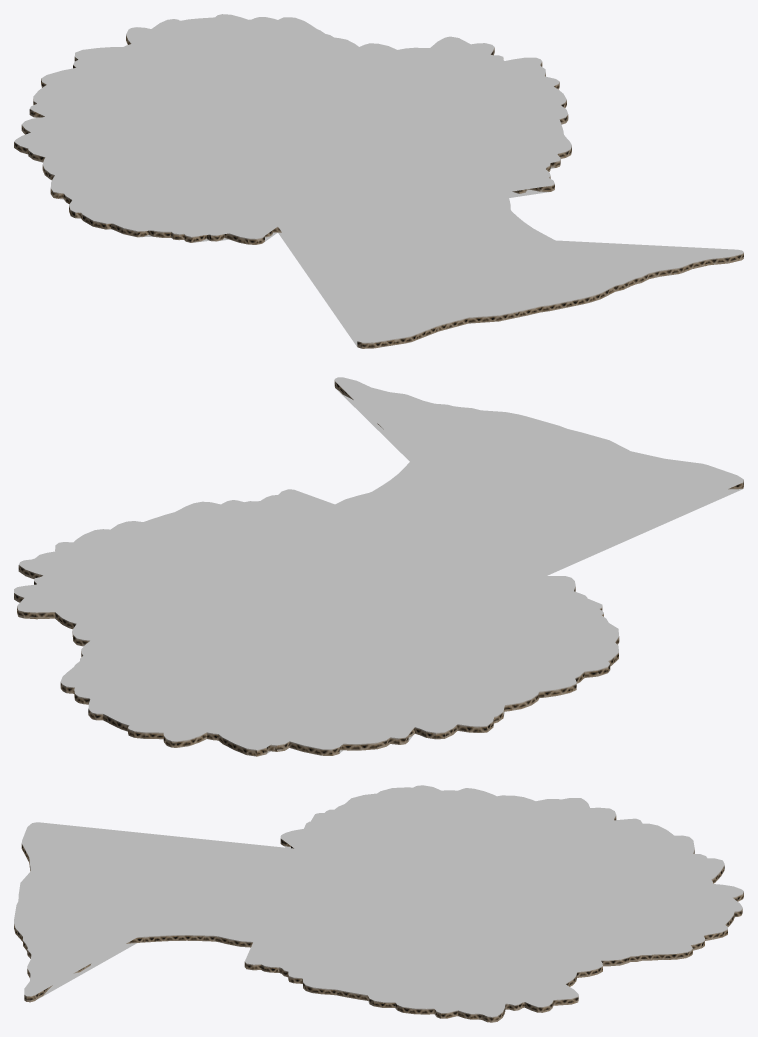
The model's file is tree_sprite.fbx.
The picture shows the model from 3 angles, top to bottom: view 1: azimuth 30°, elevation 25°; view 2: azimuth 150°, elevation 25°; view 3: azimuth 270°, elevation 25°; orthographic projection. The views are drawn at different scales.
Visible parts, largest first — view 1: Cube; view 2: Cube; view 3: Cube.
Boxes of the visible parts, x1=… form: Cube: x1=14, y1=14, x2=743, y2=348; Cube: x1=14, y1=377, x2=743, y2=756; Cube: x1=14, y1=785, x2=743, y2=1022.
Size of the model in its own units: 344 by 4 by 458.
